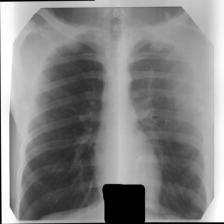tuberculosis: (11, 26, 214, 219)
